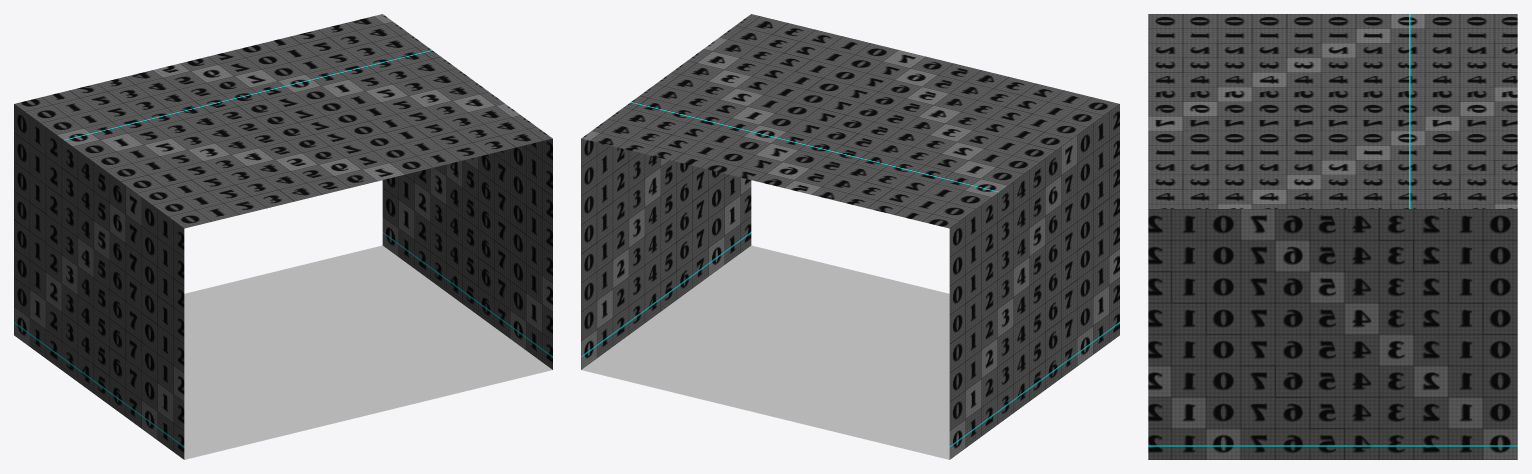
File: WallFrame500x300x400cm.FBX
The picture shows the model from 3 angles, left to right: view 1: azimuth 30°, elevation 25°; view 2: azimuth 150°, elevation 25°; view 3: azimuth 270°, elevation 25°; orthographic projection. The views are drawn at different scales.
Visible parts, largest first — view 1: WallFrame500x300x400cm; view 2: WallFrame500x300x400cm; view 3: WallFrame500x300x400cm.
Boxes of the visible parts, x1,y1,x2,y2 form: WallFrame500x300x400cm: (14,14,552,459); WallFrame500x300x400cm: (581,14,1119,459); WallFrame500x300x400cm: (1148,14,1517,459).
Bounding box in the file's own units: 500 × 300 × 400.
